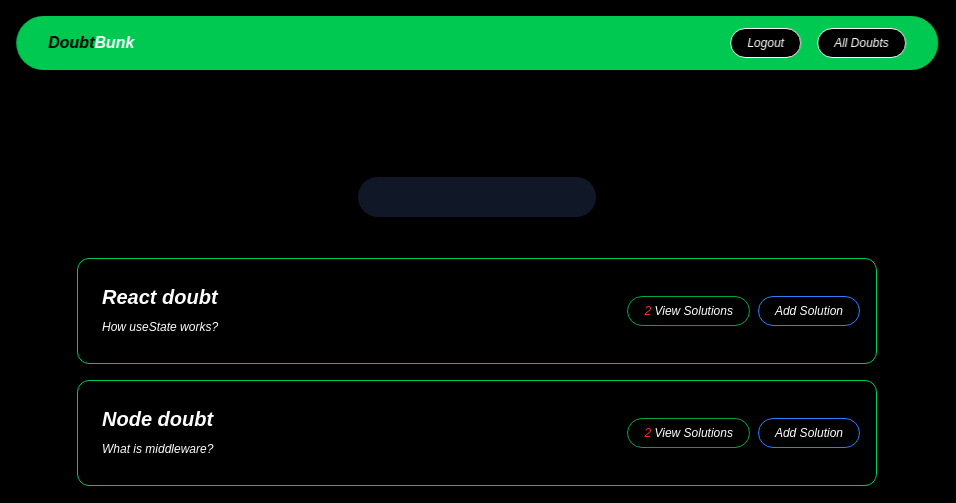
Test: DoubtBunk - Doubts Page › Search filters doubts
Type "React" into the field with test id "search-input".
click(477, 197); type("React")  # box [357,176,597,218]
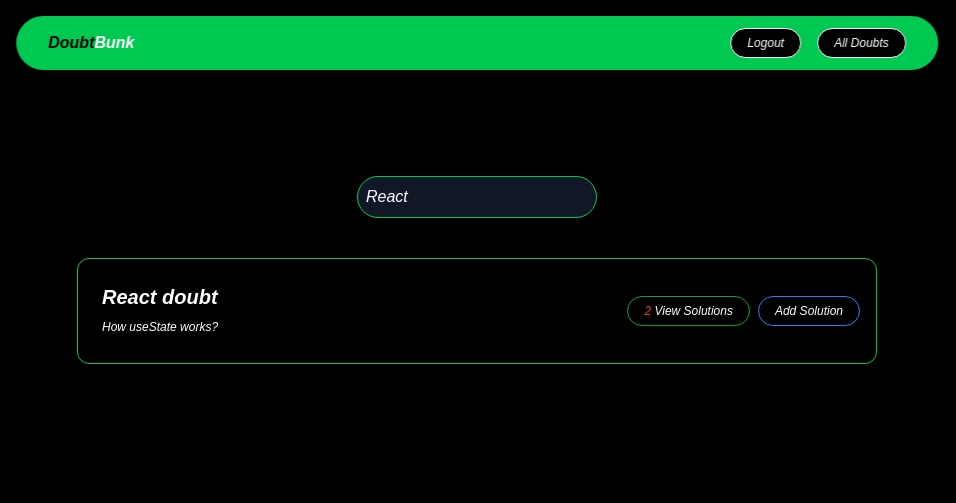
Expected: the heading "React doubt" is shown, [102,286,218,308]
Expected: the heading "Node doubt" is gone
